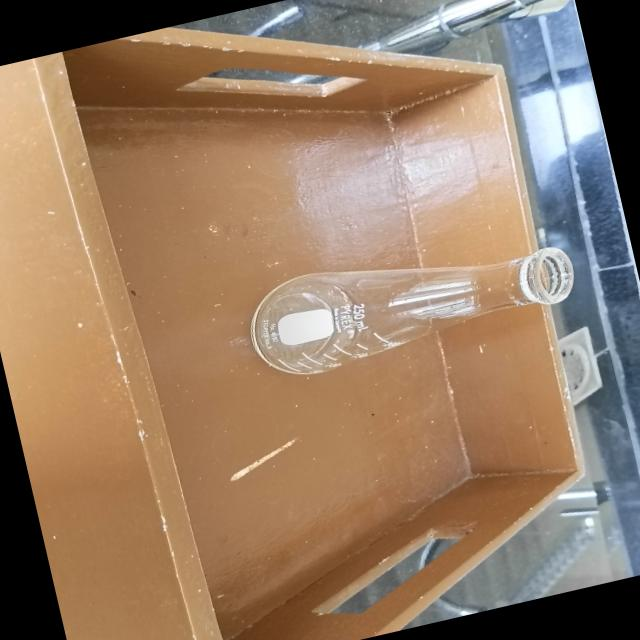erlenmeyer_flask: (229, 210, 595, 390)
